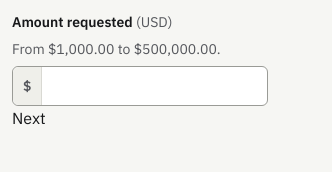
NumberInput › accepts a pasted amount with symbol and grouping
Click the field labelled "Amount requested (USD)" at (155, 86), box [42, 67, 267, 105]
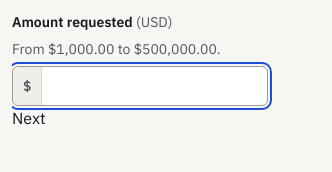
Type keys "$12,000.00"
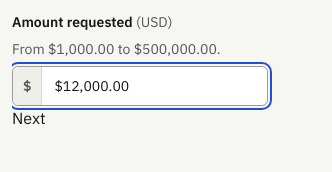
Press Tab
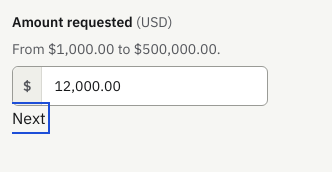
Now the field labelled "Amount requested (USD)" holds "12,000.00", box [42, 67, 267, 105]
